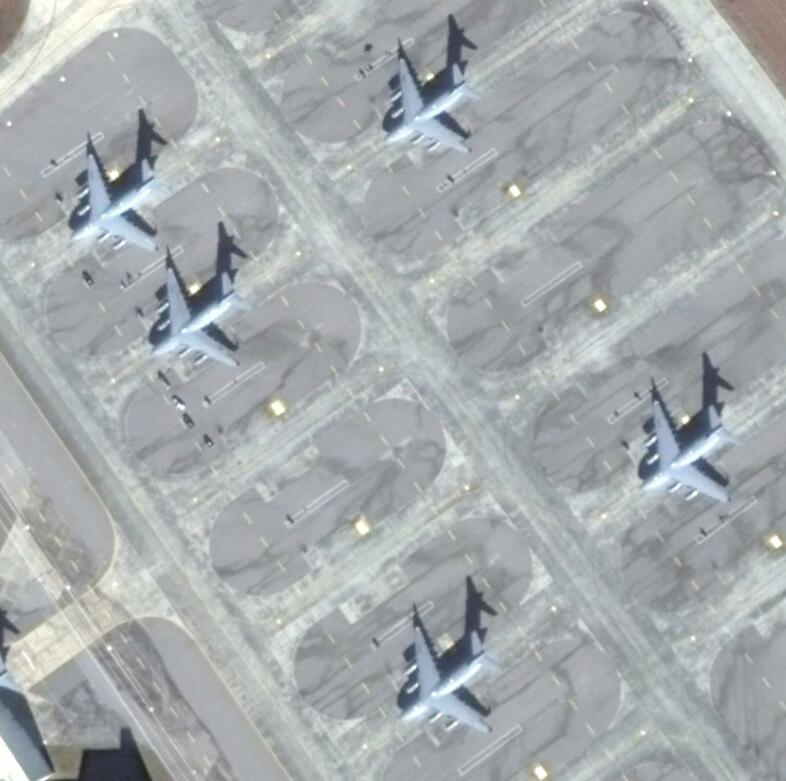A3: (393, 624, 502, 735), (640, 395, 740, 508), (149, 264, 252, 370), (381, 53, 481, 156), (66, 153, 167, 253)
